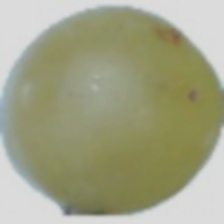grapes: (51, 49, 187, 200)
